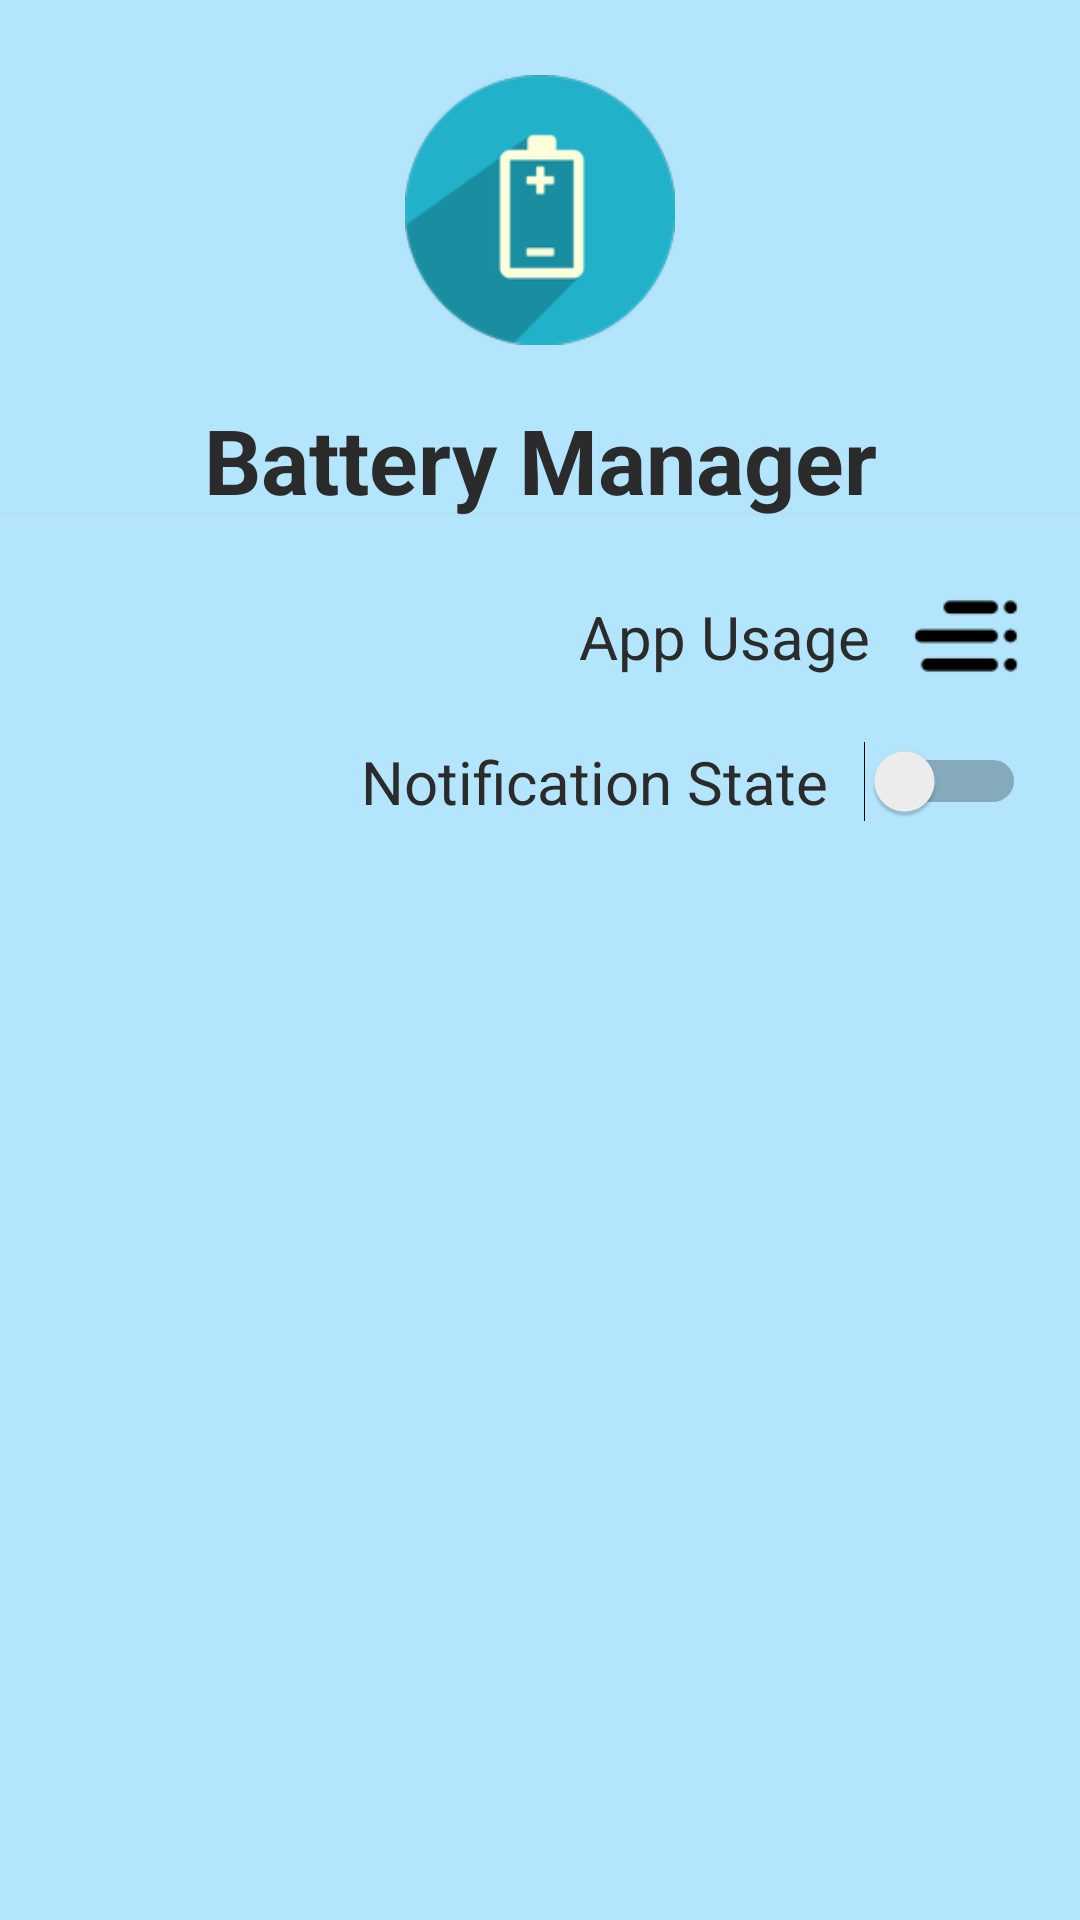

Screen size 1080x1920. Icon name, then its box in pixels as (x1, y1, x2, y2):
menudrawer: (914, 600, 1018, 672)
